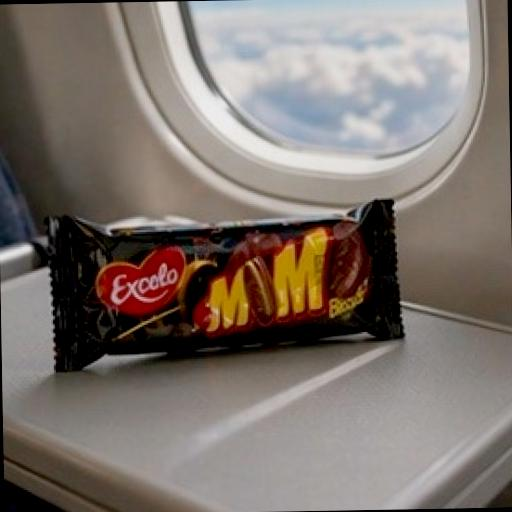MOMO: (29, 191, 444, 373)
